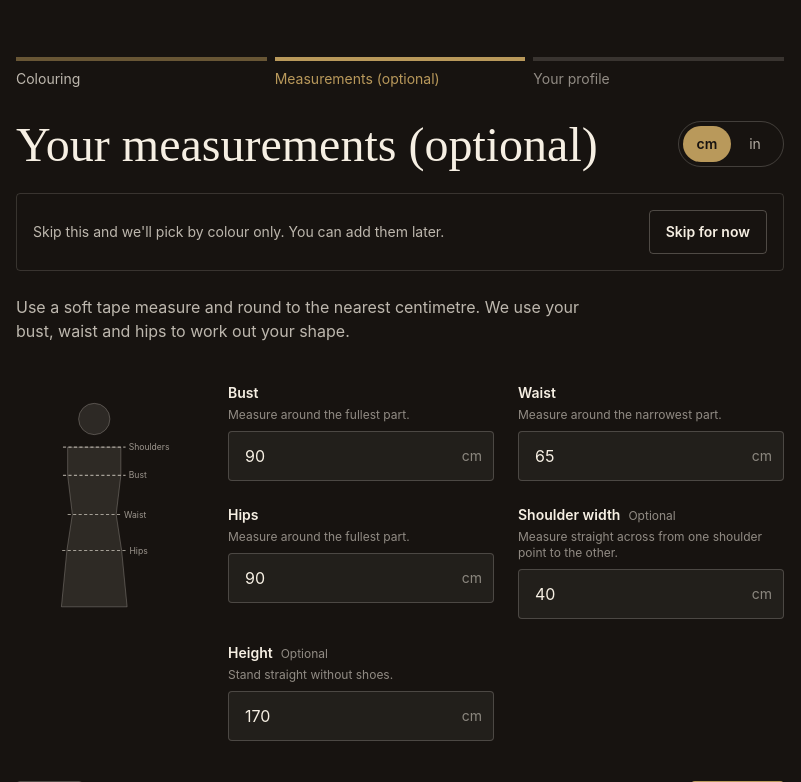
Test: onboarding draft hydration › states the allowed range for each invalid measurement
The image size is (801, 782).
Clear the number field labelled "Bust Measure around the fullest part. cm" at (361, 456), box [228,431,494,481]
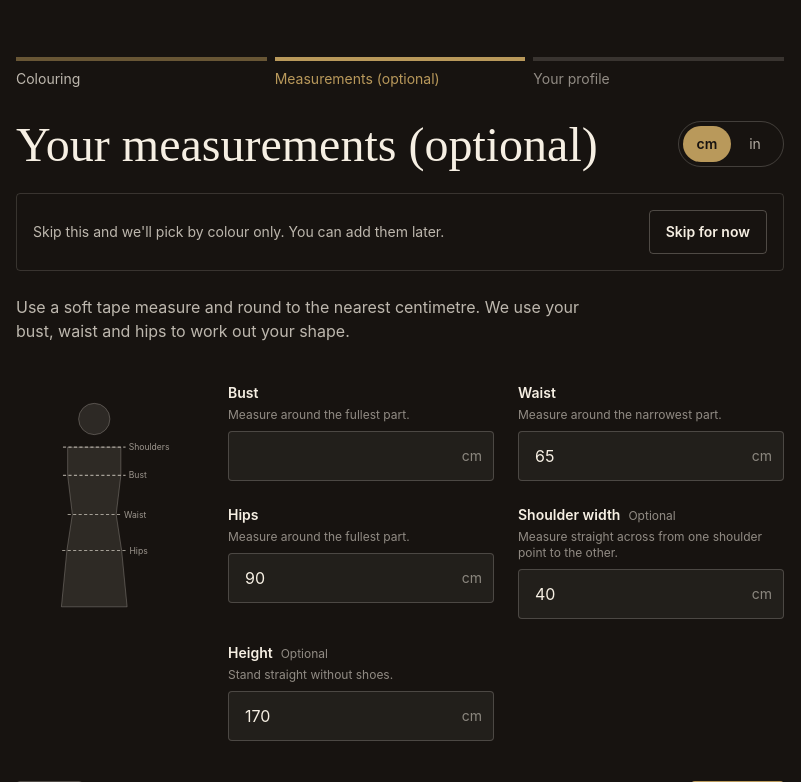
Replace the text in the number field labelled "Waist Measure around the narrowest part. cm" with "30" at (651, 456), box [518,431,784,481]
(page scrolled)
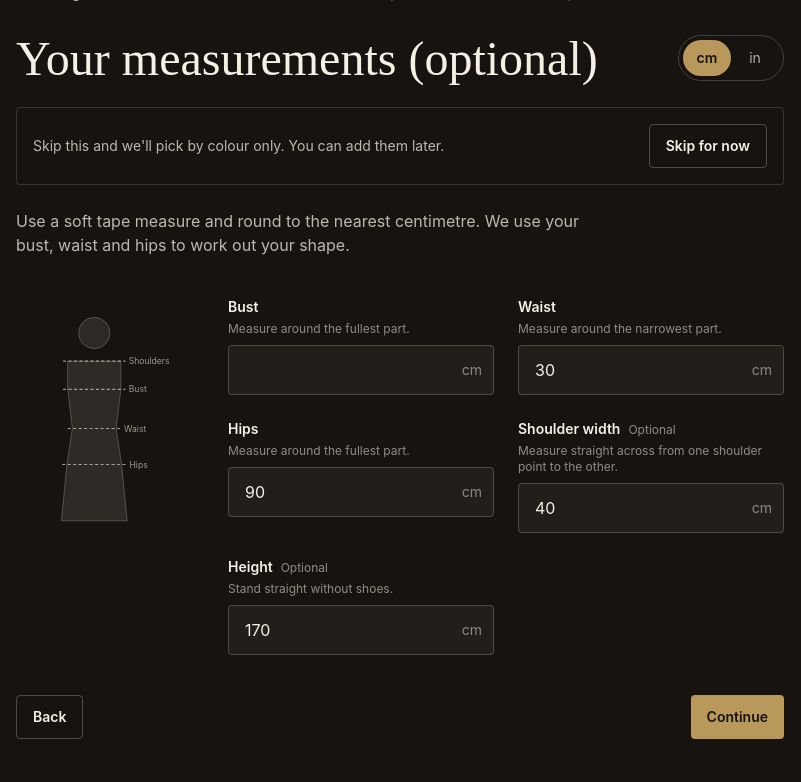
Click the button "Continue" at (737, 717), box [691,695,784,739]
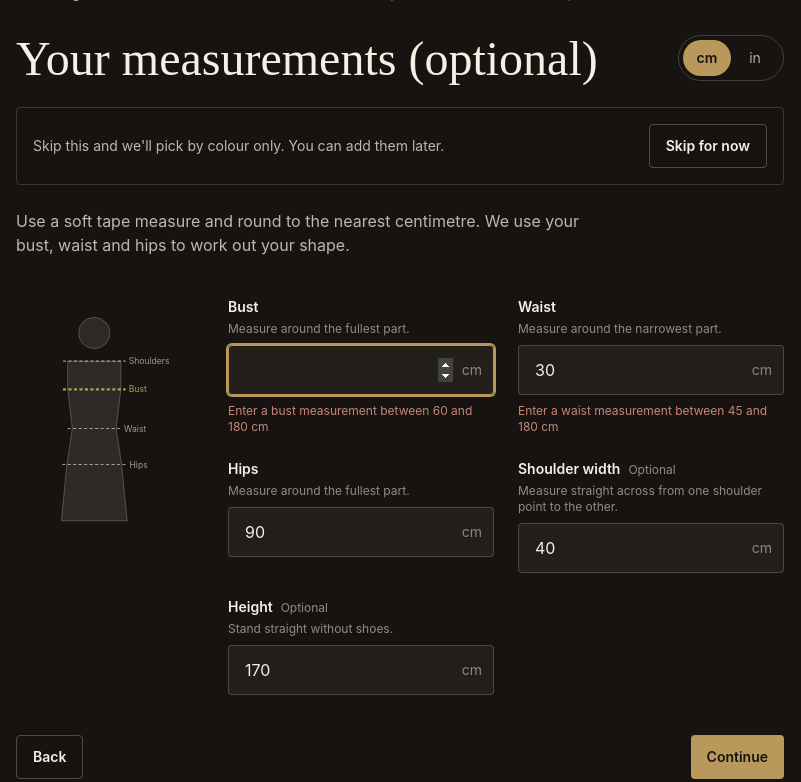
Result: the text with id "bustCm-error" shows "60 and 180 cm" at [228,403,472,434]
Result: the text with id "waistCm-error" shows "45 and 180 cm" at [518,403,767,434]
